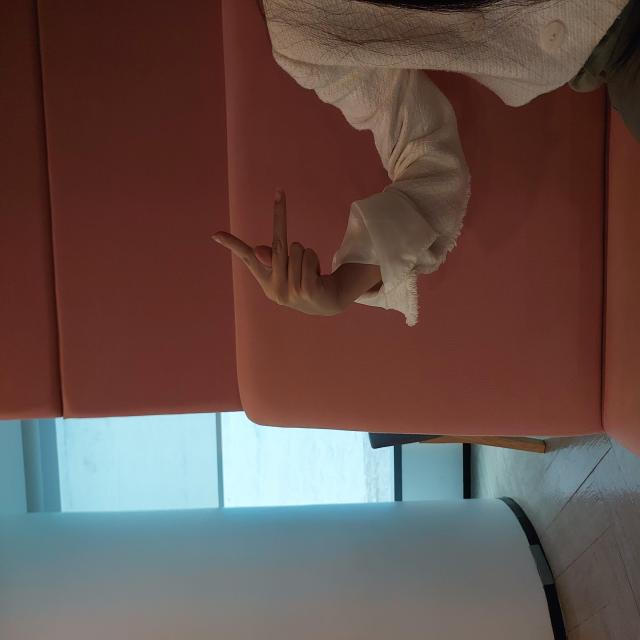K: (324, 214, 450, 338)
